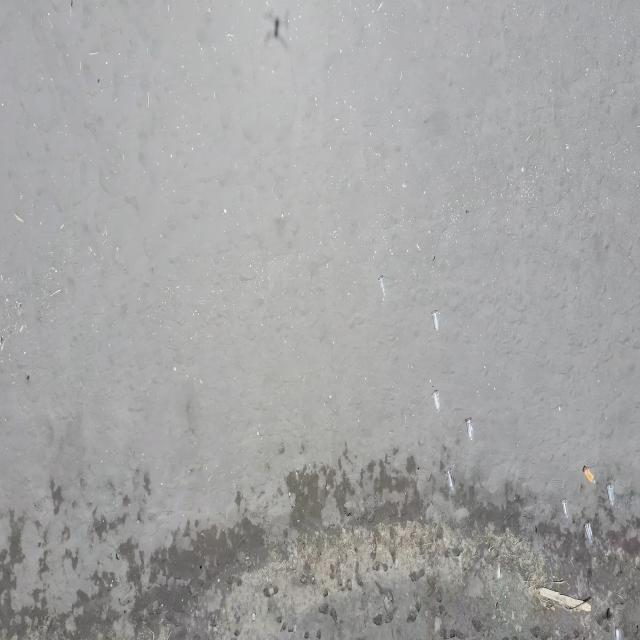plastic-bottle: (582, 465, 596, 485)
takeaway-cup: (444, 468, 455, 494), (585, 520, 595, 546), (464, 417, 474, 441), (430, 310, 440, 332), (606, 483, 616, 505), (432, 388, 441, 412), (378, 274, 387, 296), (562, 500, 570, 520)
